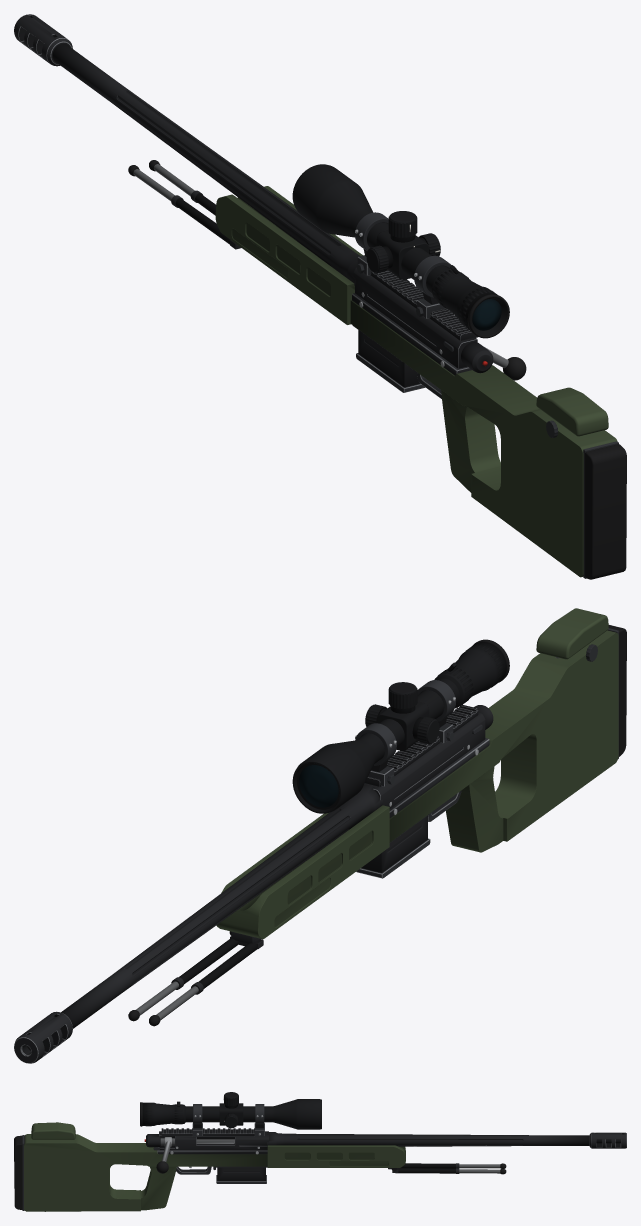
File: awp.glb
The picture shows the model from 3 angles, top to bottom: view 1: azimuth 30°, elevation 25°; view 2: azimuth 150°, elevation 25°; view 3: azimuth 270°, elevation 25°; orthographic projection. The views are drawn at different scales.
Visible parts, largest first — view 1: body, mag_mesh, bolt_mesh; view 2: body, mag_mesh; view 3: body, mag_mesh, bolt_mesh.
Part boxes in pixels (left/top/right/bottom): body: left=14, top=14, right=626, bottom=579; mag_mesh: left=356, top=330, right=425, bottom=392; bolt_mesh: left=461, top=342, right=526, bottom=380; body: left=14, top=608, right=626, bottom=1063; mag_mesh: left=356, top=815, right=430, bottom=878; body: left=14, top=1092, right=626, bottom=1211; mag_mesh: left=216, top=1167, right=266, bottom=1183; bolt_mesh: left=144, top=1134, right=234, bottom=1173.
Size of the model in its own units: 0.102 by 0.2485 by 1.19.
